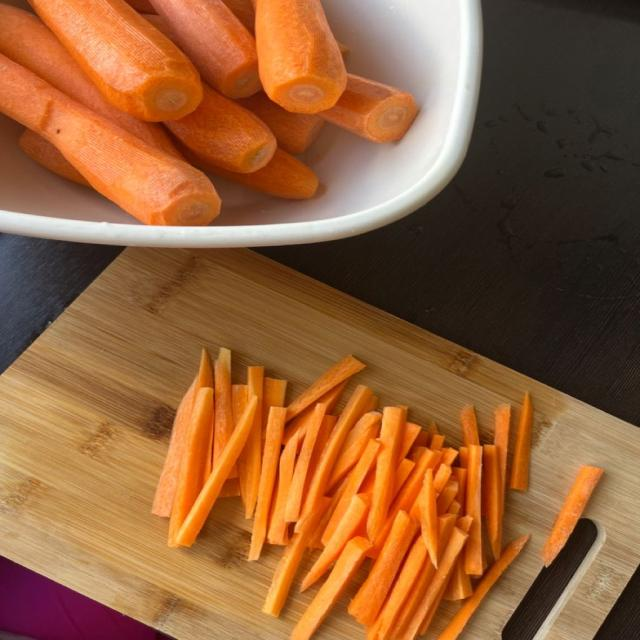carrot: (0, 55, 219, 225), (0, 4, 179, 157), (30, 0, 201, 121), (176, 397, 257, 546), (151, 349, 213, 517), (154, 0, 259, 98), (255, 0, 346, 113), (166, 85, 276, 173), (439, 535, 529, 639), (304, 386, 372, 514), (292, 537, 370, 639), (348, 511, 418, 624), (369, 449, 440, 557), (400, 527, 468, 639), (168, 387, 213, 546), (301, 494, 370, 591), (187, 149, 319, 199), (262, 509, 323, 617), (321, 74, 417, 142), (542, 466, 602, 566), (322, 440, 379, 544), (248, 406, 286, 561), (374, 536, 426, 639), (239, 92, 324, 154), (367, 407, 406, 540), (287, 355, 365, 420), (285, 404, 326, 521), (327, 412, 381, 491), (238, 366, 264, 518), (19, 130, 89, 186), (214, 348, 246, 467), (392, 558, 435, 639), (420, 555, 462, 634), (268, 434, 298, 544), (303, 415, 338, 500), (339, 397, 381, 459), (305, 415, 337, 493), (465, 445, 483, 576), (509, 393, 533, 490), (494, 404, 510, 549), (482, 445, 501, 558), (418, 469, 437, 566), (494, 404, 510, 501), (262, 377, 286, 441), (307, 499, 335, 549), (443, 558, 473, 601), (283, 405, 313, 444), (224, 0, 254, 34), (392, 458, 415, 500), (204, 390, 214, 478), (460, 404, 480, 447), (230, 385, 247, 432), (399, 423, 421, 459), (437, 479, 458, 515), (434, 462, 452, 494), (453, 468, 466, 506), (360, 468, 375, 495), (220, 478, 240, 497), (127, 0, 154, 13), (456, 515, 473, 533), (442, 448, 458, 465), (414, 429, 430, 446), (409, 447, 427, 461), (430, 434, 444, 450), (447, 500, 461, 515), (365, 397, 379, 412), (426, 422, 439, 437), (459, 447, 468, 468), (338, 42, 349, 56)
